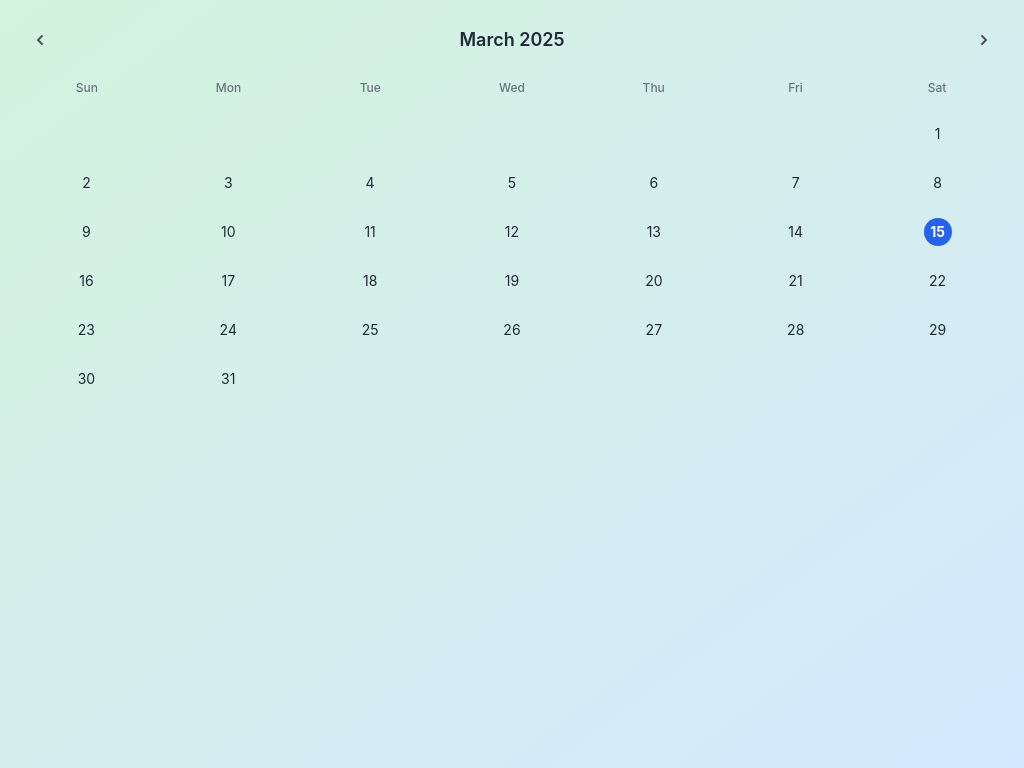
Calendar — month header and navigation › navigates to previous month when prev button is clicked
Click the button named "Previous month".
click(40, 40)  # box [16,16,64,64]
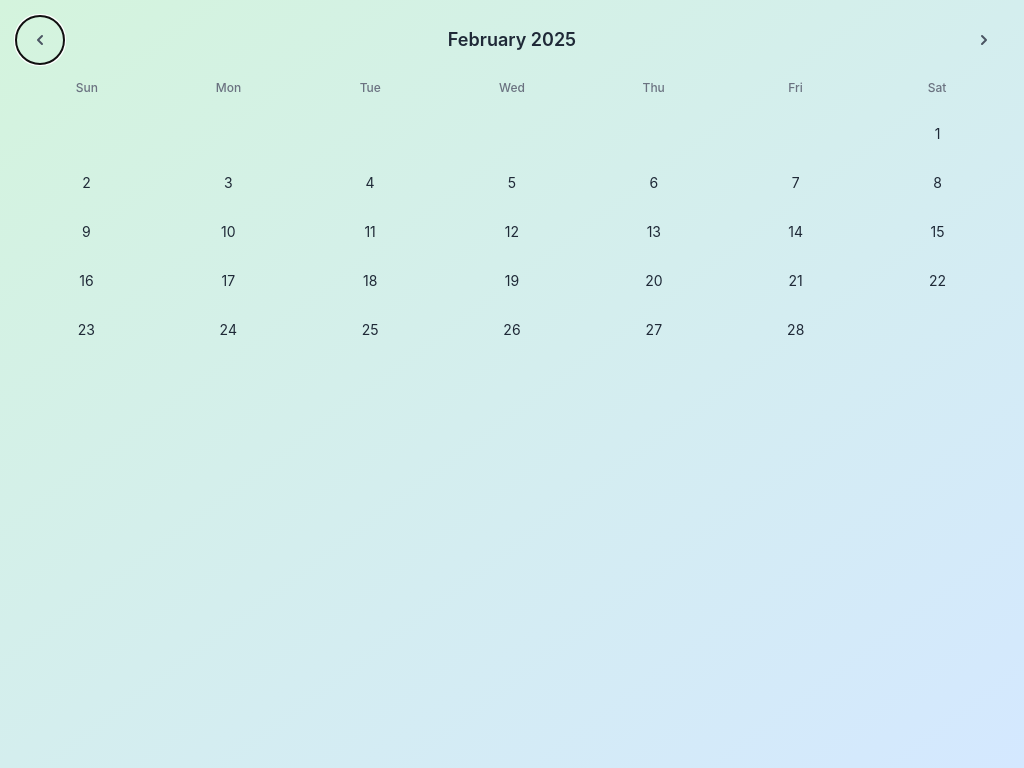
Now the heading "February 2025" is shown, box [448,26,576,54]
